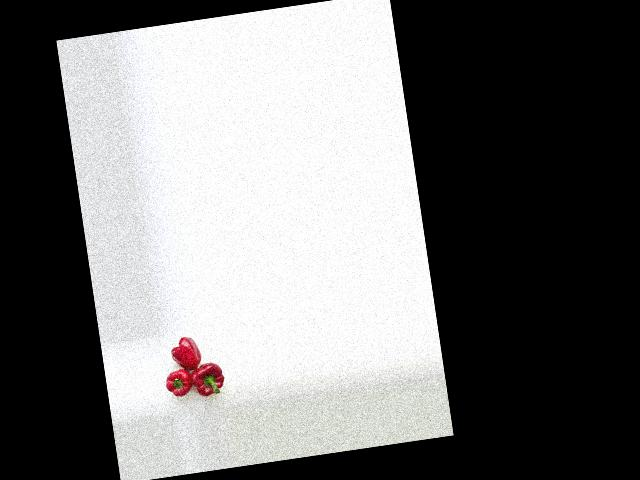bell_pepper: (163, 330, 205, 374)
